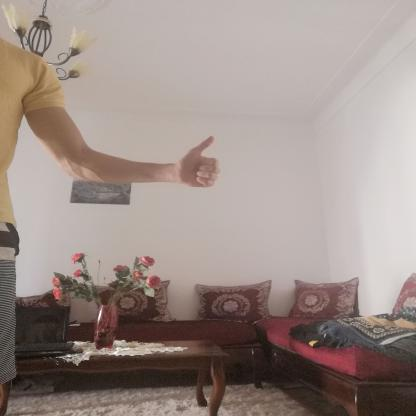ALIF: (166, 125, 228, 194)
